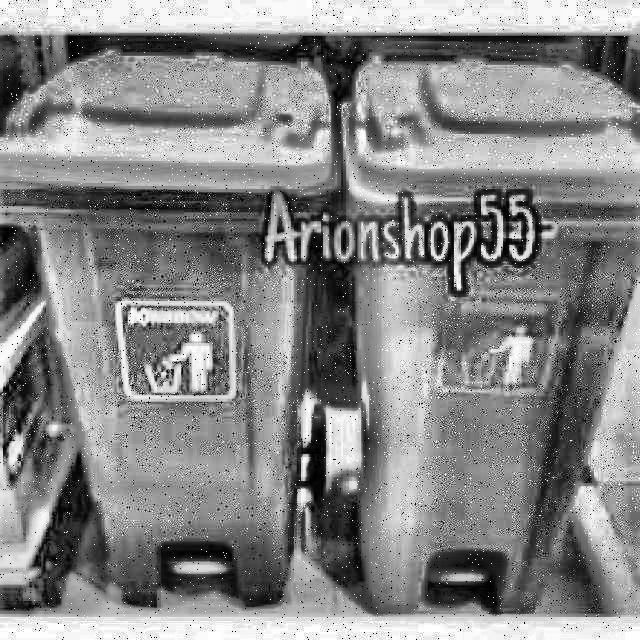Dustbin: (3, 49, 334, 623), (334, 49, 638, 637)
